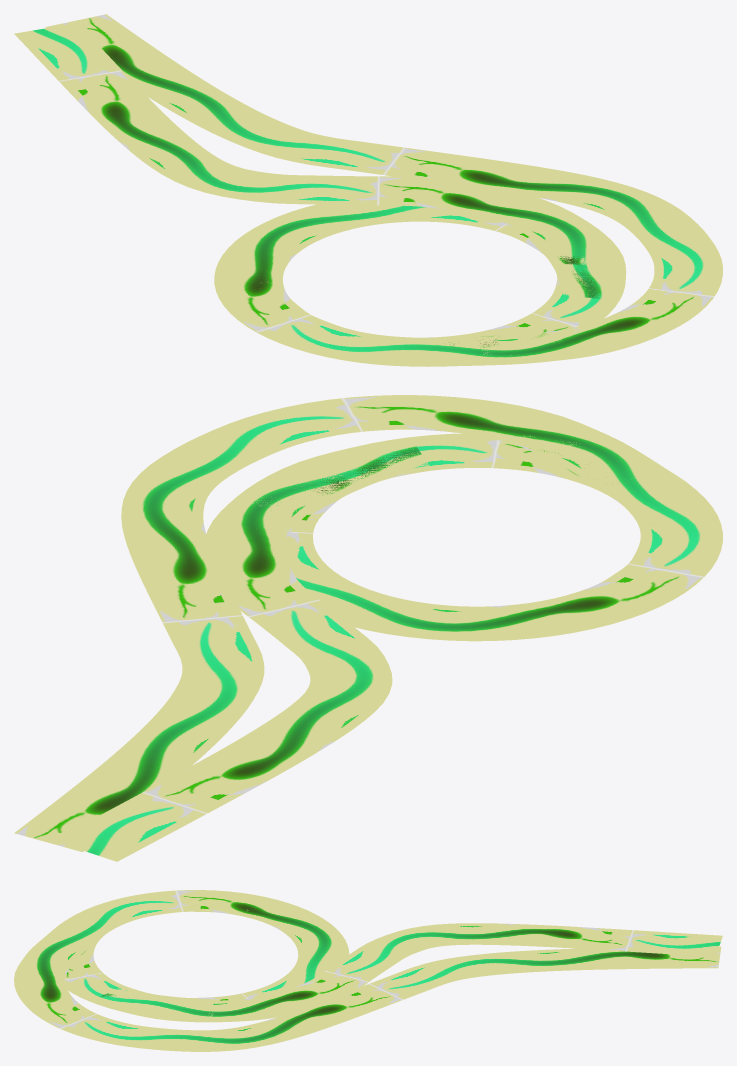
File: skill_eff_143_att_loft.FBX
3 views of the same model, one above another, from view 1: azimuth 30°, elevation 25°; view 2: azimuth 150°, elevation 25°; view 3: azimuth 270°, elevation 25° (orthographic). The views are drawn at different scales.
Parts seen in each view (by area): view 1: skill_eff_136_att_loft001, skill_eff_136_att_loft002; view 2: skill_eff_136_att_loft001, skill_eff_136_att_loft002; view 3: skill_eff_136_att_loft001, skill_eff_136_att_loft002.
Boxes of the visible parts, x1,y1,x2,y2 form: skill_eff_136_att_loft001: (45, 14, 722, 366); skill_eff_136_att_loft002: (14, 23, 626, 366); skill_eff_136_att_loft001: (14, 395, 722, 852); skill_eff_136_att_loft002: (53, 433, 721, 861); skill_eff_136_att_loft001: (14, 890, 721, 1051); skill_eff_136_att_loft002: (65, 907, 722, 1022).
Size of the model in its own units: 88.39 by 8.15e-06 by 163.
